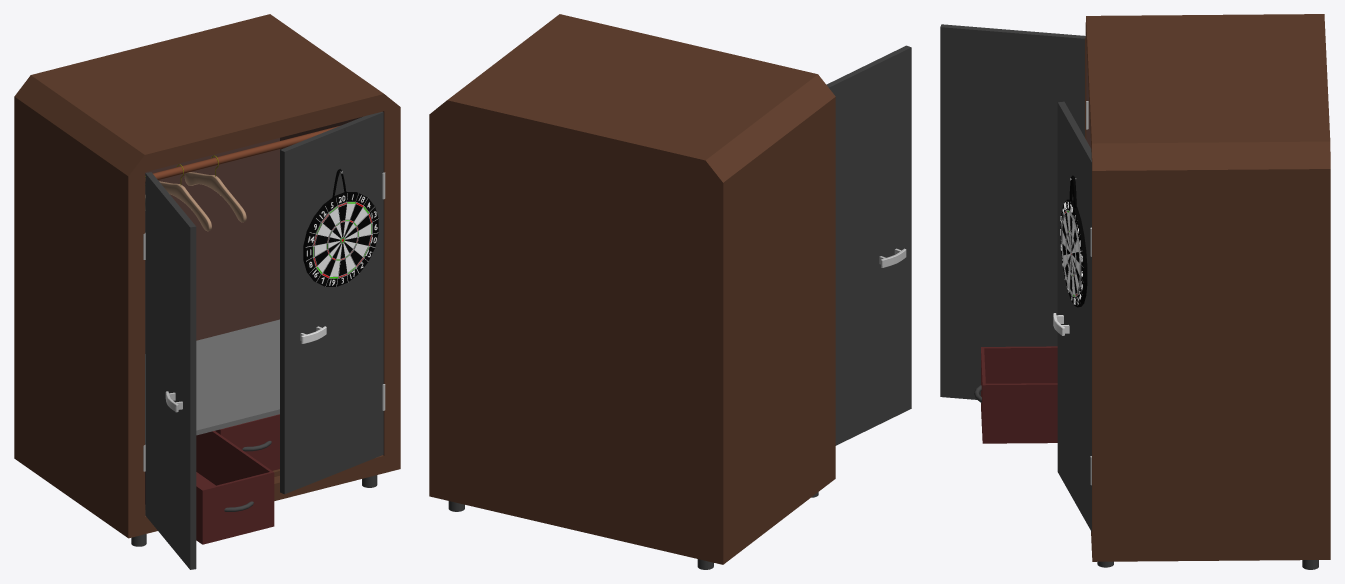
File: guarda roupa do solteiro.fbx
The picture shows the model from 3 angles, left to right: view 1: azimuth 30°, elevation 25°; view 2: azimuth 150°, elevation 25°; view 3: azimuth 270°, elevation 25°; orthographic projection. The views are drawn at different scales.
Visible parts, largest first — view 1: guarda roupa; view 2: guarda roupa; view 3: guarda roupa.
Boxes of the visible parts, x1,y1,x2,y2 form: guarda roupa: [14, 14, 400, 569]; guarda roupa: [429, 14, 911, 569]; guarda roupa: [940, 14, 1330, 569].
Size of the model in its own units: 305 by 403 by 335.
